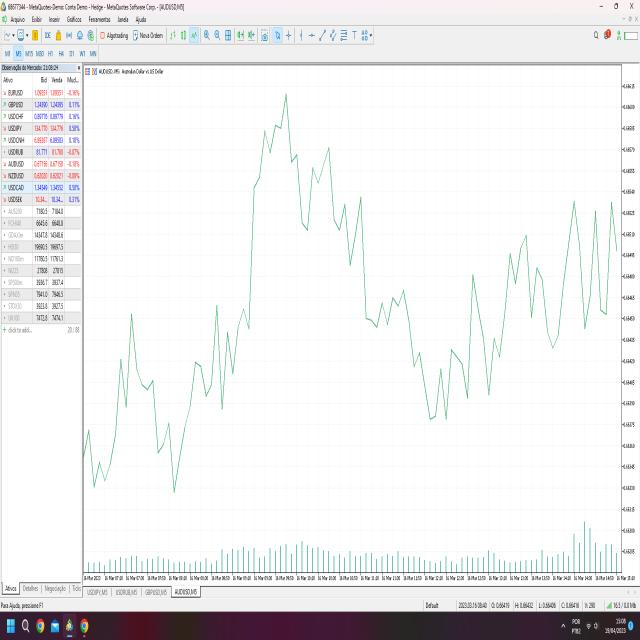bandeira_baixa: (354, 184, 409, 338)
fundo_duplo: (144, 347, 198, 505)
oco: (501, 203, 549, 400)
